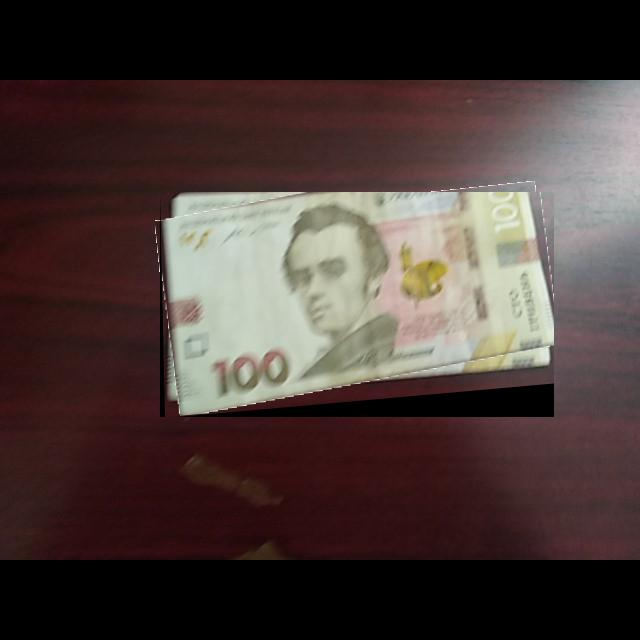100uah: (161, 192, 555, 417)
